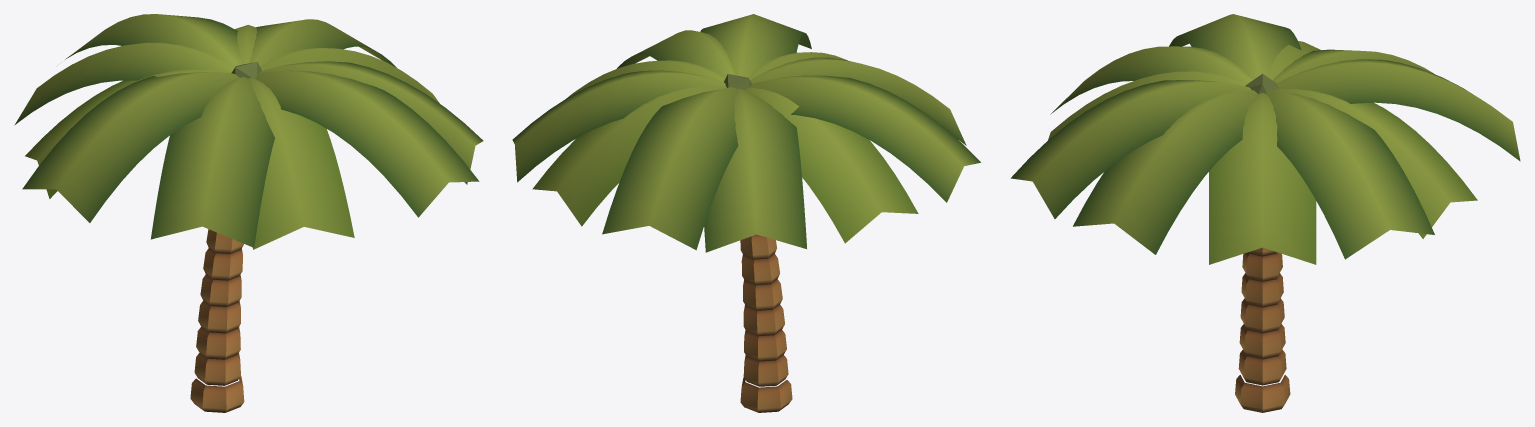
File: palm-short-v1.glb
3 renders of one model, left to right at view 1: azimuth 30°, elevation 25°; view 2: azimuth 150°, elevation 25°; view 3: azimuth 270°, elevation 25°, orthographic. The views are drawn at different scales.
Visible parts, largest first — view 1: palm-short-v1-fronds, palm-short-v1-trunk; view 2: palm-short-v1-fronds, palm-short-v1-trunk; view 3: palm-short-v1-fronds, palm-short-v1-trunk.
Boxes of the visible parts, bbox=[...] form: palm-short-v1-fronds: bbox=[14, 14, 483, 249]; palm-short-v1-trunk: bbox=[190, 61, 261, 412]; palm-short-v1-fronds: bbox=[512, 14, 980, 252]; palm-short-v1-trunk: bbox=[724, 74, 792, 412]; palm-short-v1-fronds: bbox=[1011, 14, 1520, 264]; palm-short-v1-trunk: bbox=[1235, 73, 1290, 412].
Size of the model in its own units: 5.89 by 4.66 by 6.19.
